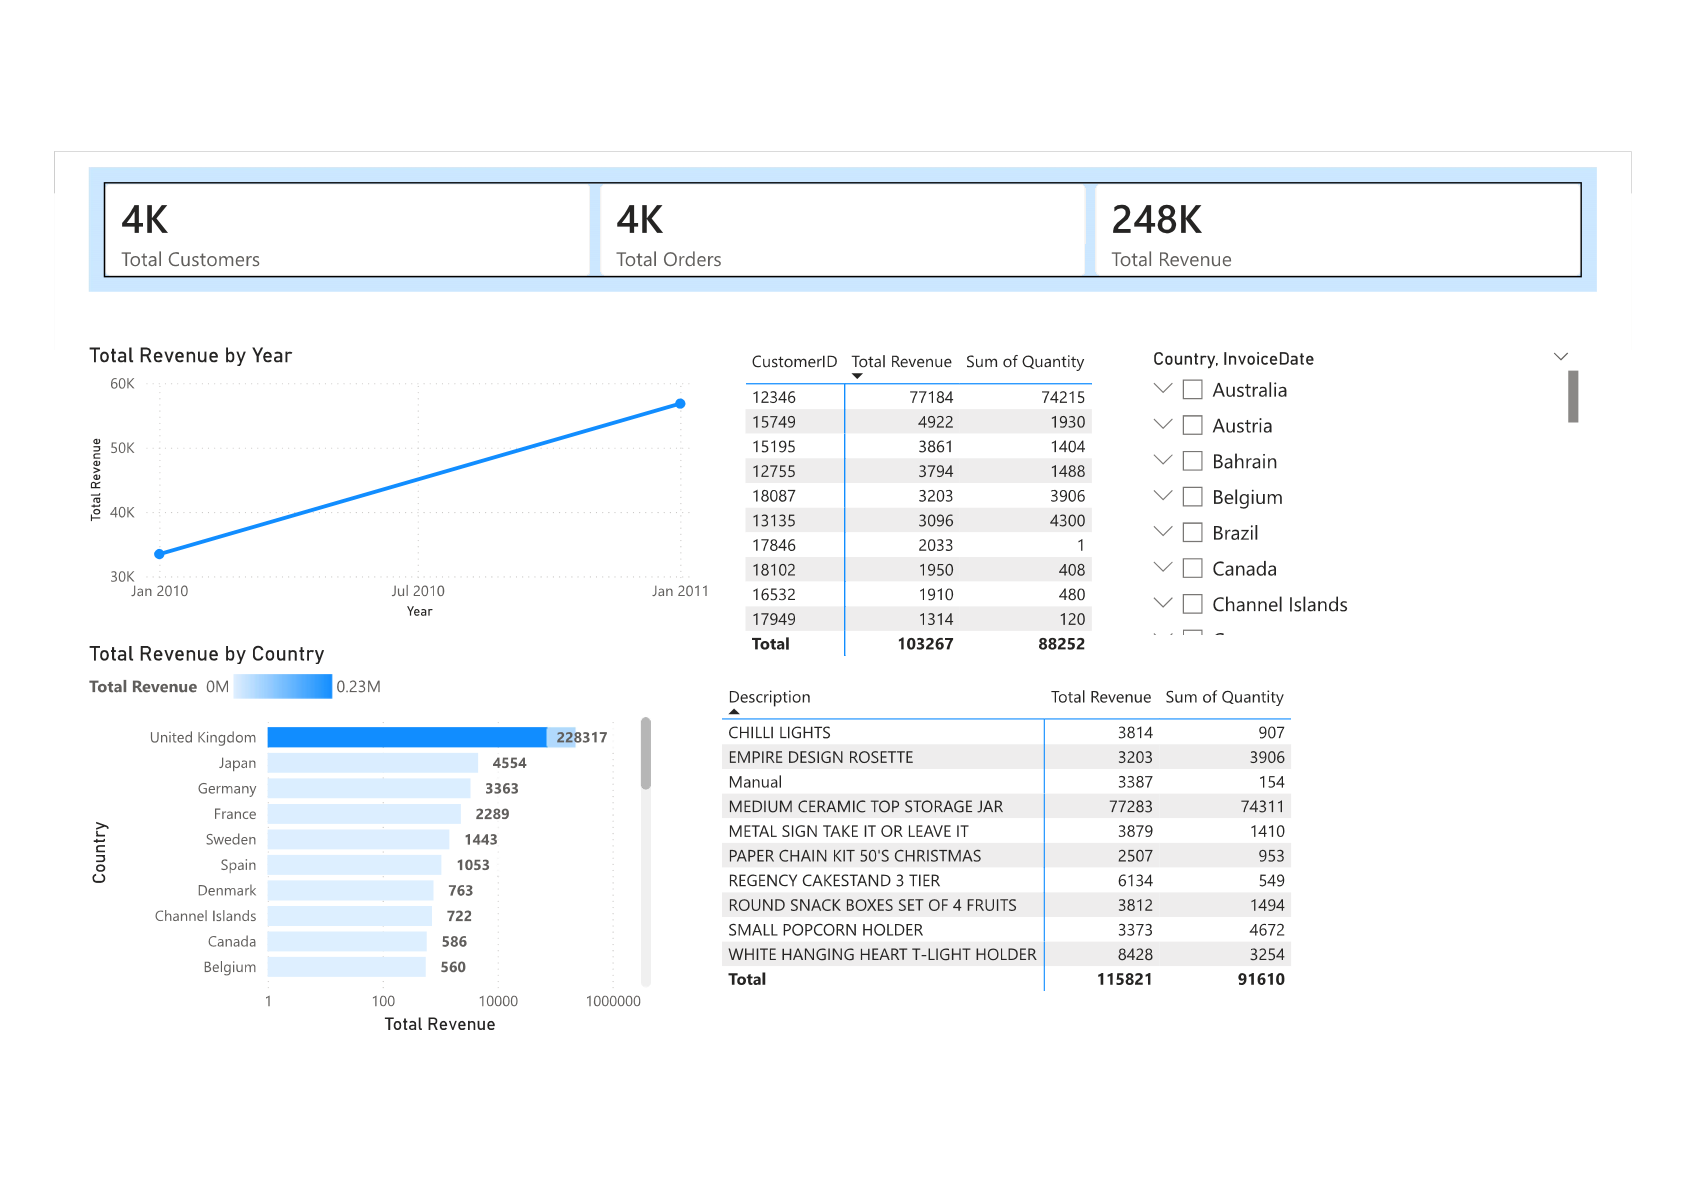

What the dashboard file says about the page in this screenshot:
{"tool":"powerbi","page":{"name":"Page 1","canvas":[1280,720],"ordinal":0},"visuals":[{"type":"cardVisual","fields":{"Data":["data (3).Total Customers","data (3).Total Orders","data (3).Total Revenue"]},"box":[22.7,7.6,1234,111.5],"z":0},{"type":"lineChart","fields":{"Category":["data (3).InvoiceDate.Variation.Date Hierarchy.Year","data (3).InvoiceDate.Variation.Date Hierarchy.Month","data (3).InvoiceDate.Variation.Date Hierarchy.Day"],"Y":["data (3).Total Revenue"]},"box":[22.7,155,514,228.7],"z":1000},{"type":"barChart","fields":{"Category":["data (3).Country"],"Y":["data (3).Total Revenue"]},"box":[22.7,396.9,466.8,323.2],"z":2000},{"type":"pivotTable","fields":{"Rows":["data (3).CustomerID"],"Values":["data (3).Total Revenue","Sum(data (3).Quantity)"]},"box":[555.6,155,323.2,264.6],"z":3000},{"type":"pivotTable","fields":{"Rows":["data (3).Description"],"Values":["data (3).Total Revenue","Sum(data (3).Quantity)"]},"box":[536.7,427.1,523.5,264.6],"z":4000},{"type":"slicer","fields":{"Values":["data (3).Country","data (3).InvoiceDate"]},"box":[878.7,155,362.8,241.9],"z":4001}]}

Visuals, with their boxes on the page's 1280x720 design canvas (x1, y1, x2, y2). These are canvas units, not pixel positions in the 1684x1191 screenshot, which may show the page scaled, cropped or inside an application window:
cardVisual - data (3).Total Customers x data (3).Total Orders: <box>23,8,1257,119</box>
lineChart - data (3).InvoiceDate.Variation.Date Hierarchy.Year x data (3).InvoiceDate.Variation.Date Hierarchy.Month: <box>23,155,537,384</box>
barChart - data (3).Country x data (3).Total Revenue: <box>23,397,490,720</box>
pivotTable - data (3).CustomerID x data (3).Total Revenue: <box>556,155,879,420</box>
pivotTable - data (3).Description x data (3).Total Revenue: <box>537,427,1060,692</box>
slicer - data (3).Country x data (3).InvoiceDate: <box>879,155,1242,397</box>
